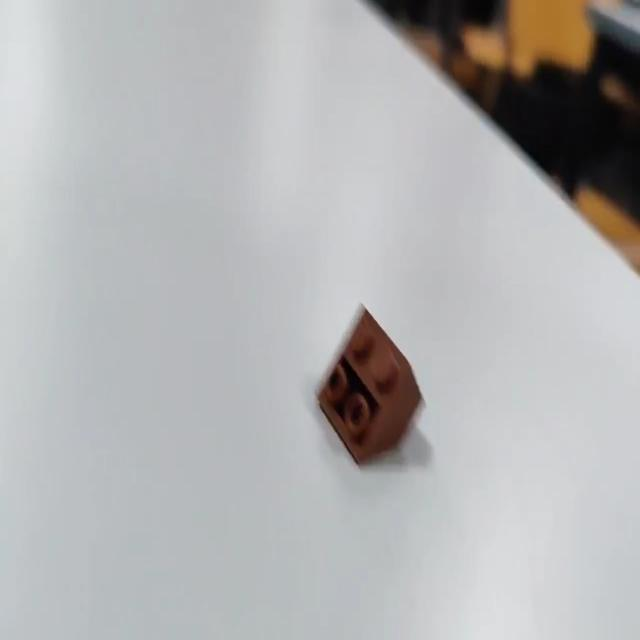X2x2x1: (316, 299, 426, 466)
